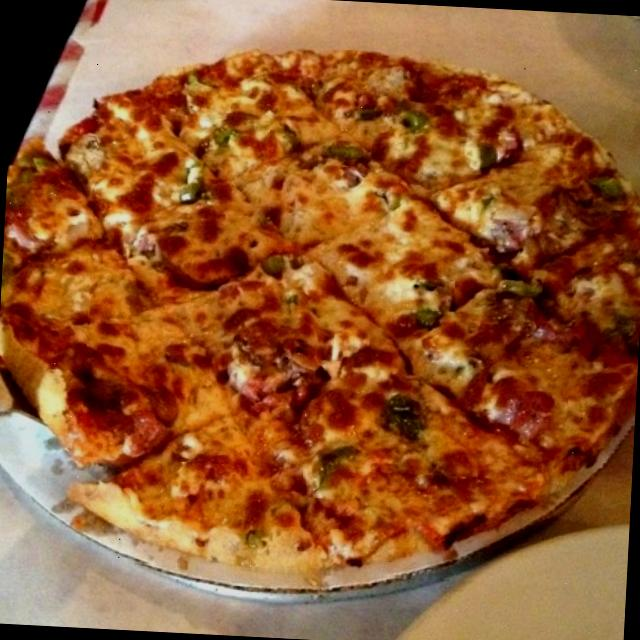Bell Pepper: (376, 385, 436, 446), (302, 439, 358, 500), (402, 277, 454, 340), (176, 158, 220, 216), (584, 165, 630, 211), (314, 134, 372, 170), (493, 274, 551, 309), (461, 133, 498, 176), (256, 250, 300, 286), (392, 106, 441, 136), (599, 310, 637, 346), (268, 118, 302, 156), (208, 117, 248, 149)
cheese: (80, 114, 582, 482)
pizza: (0, 51, 640, 572)
